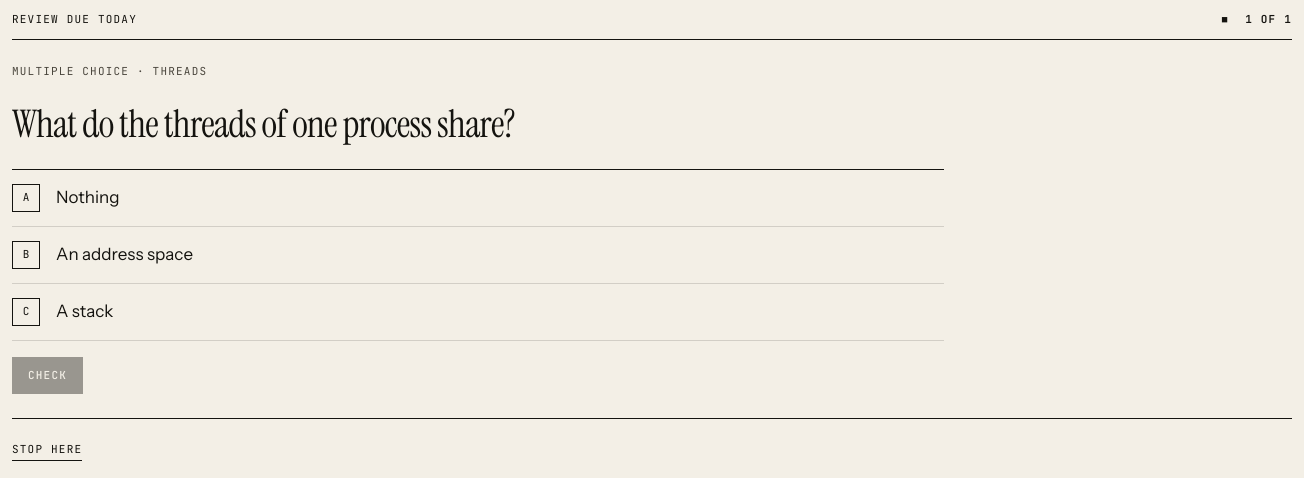
PracticeSession › checks a choice, then shows the answer, its source and when it comes back
Expected: the text "What do the threads of one process share?" is shown, x1=11 y1=98 x2=515 y2=149
Expected: the text "1 of 1" is shown, x1=1245 y1=12 x2=1292 y2=27
Click the radio button labelled "Nothing". click: (88, 197)
box: x1=12 y1=170 x2=944 y2=227
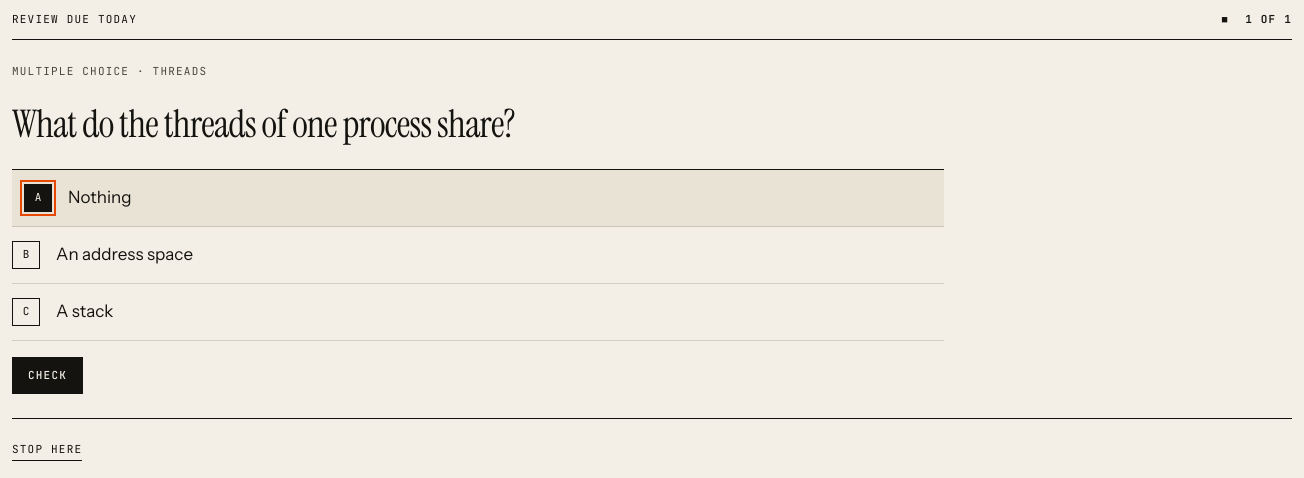
Click the button "Check". click: (48, 376)
box: x1=12 y1=357 x2=83 y2=394
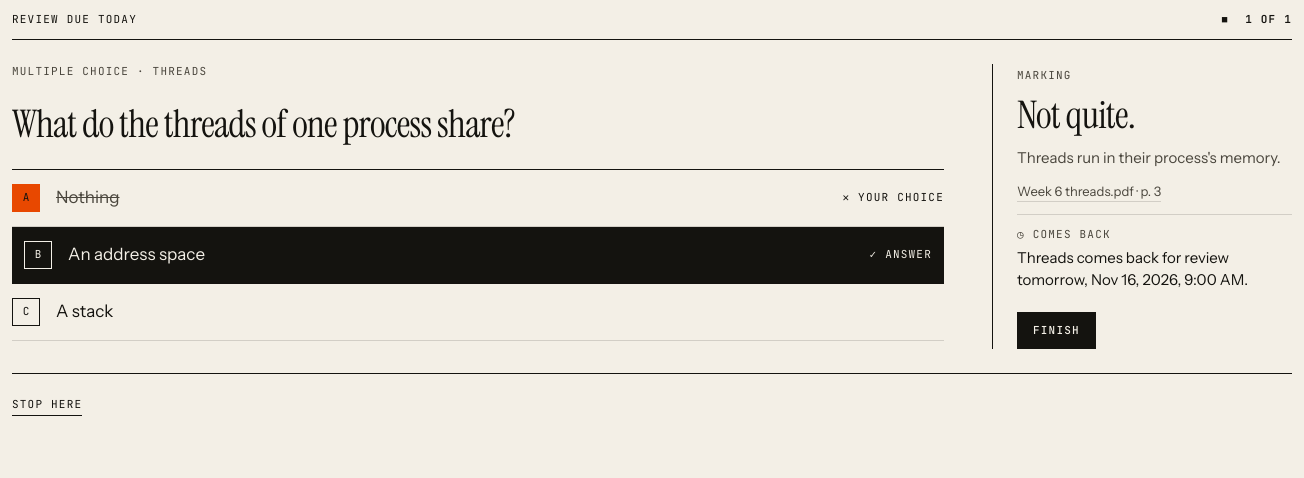
Result: the message shows "Threads run in their process's memory." at x1=1017 y1=148 x2=1280 y2=167
Result: the message shows "Week 6 threads.pdf" at x1=1017 y1=182 x2=1161 y2=202
Result: the message shows "Threads comes back for review tomorrow" at x1=992 y1=64 x2=1292 y2=349
